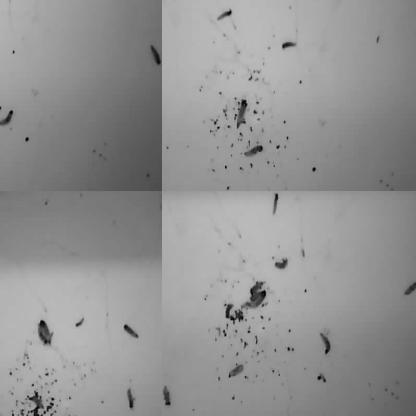PtecticusTenebrifer: (244, 291, 267, 308), (236, 97, 247, 129), (319, 331, 332, 356), (123, 323, 140, 341), (40, 320, 52, 344), (150, 45, 162, 67), (228, 364, 245, 378), (0, 108, 13, 126), (244, 146, 263, 158), (37, 323, 47, 345), (162, 386, 172, 408), (126, 386, 135, 410), (0, 84, 7, 113), (216, 10, 232, 22), (404, 280, 416, 296), (274, 257, 288, 270), (272, 192, 279, 216), (282, 41, 297, 51), (76, 317, 86, 330), (0, 120, 6, 141), (0, 191, 9, 204), (206, 0, 222, 7), (0, 258, 6, 276), (290, 191, 308, 197), (79, 0, 96, 6), (10, 0, 26, 6), (0, 400, 6, 416), (0, 114, 6, 129), (274, 0, 292, 5), (363, 191, 380, 196), (140, 0, 149, 9), (0, 47, 4, 66), (162, 123, 166, 140), (0, 72, 6, 82), (119, 0, 131, 4), (0, 0, 8, 5), (0, 0, 4, 9), (162, 0, 168, 5), (0, 403, 2, 416)
